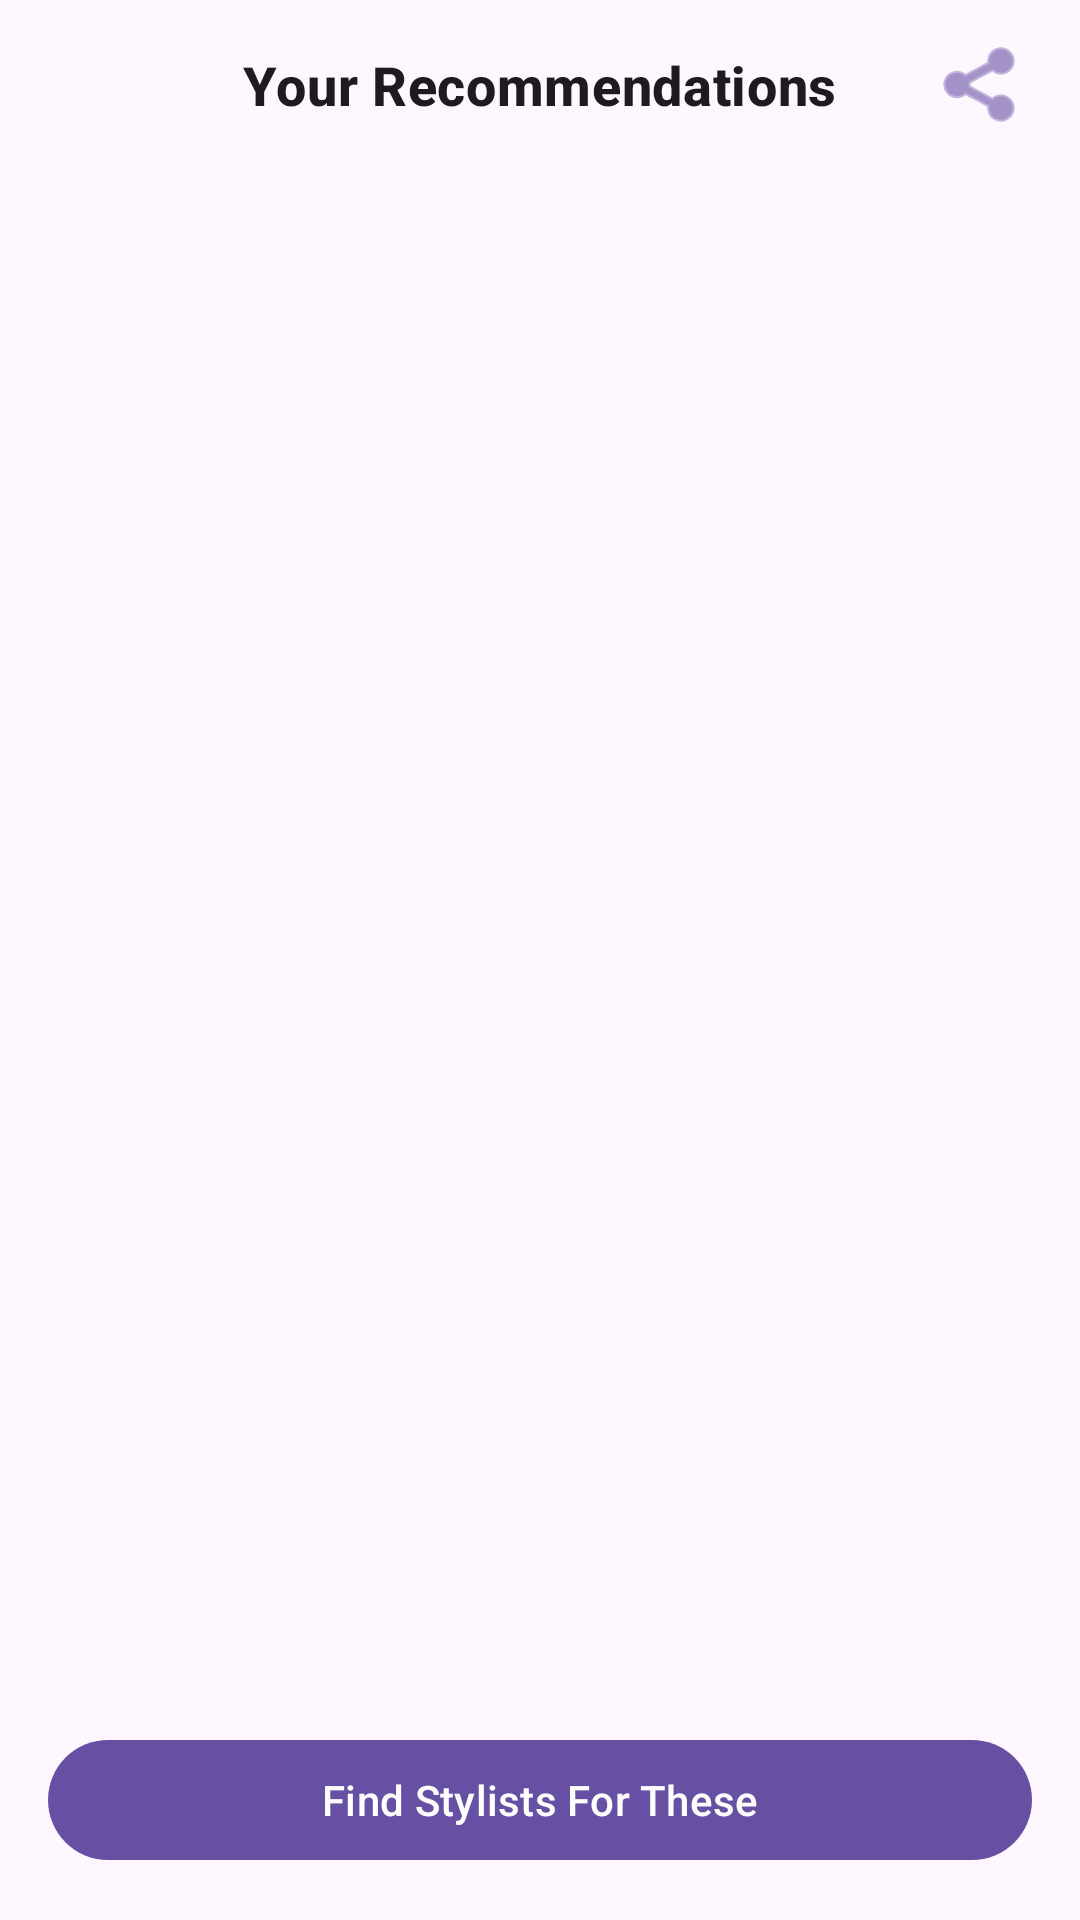

Named icons in this screenshot (1080*1920) and their centers, [x,y]:
Share recommendations: [979,84]
